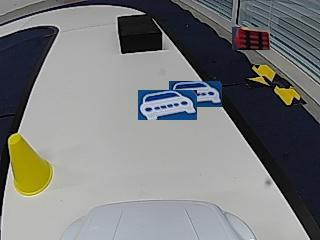block: (117, 15, 162, 52)
cone: (7, 133, 55, 195)
